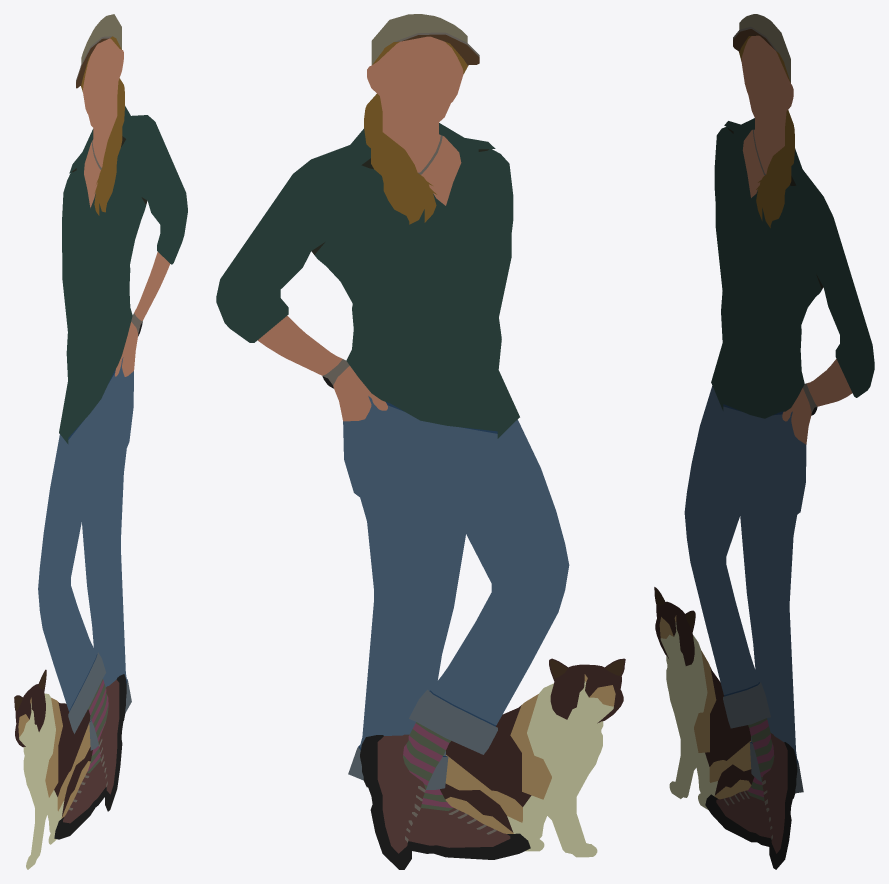
The picture shows the model from 3 angles, left to right: view 1: azimuth 30°, elevation 25°; view 2: azimuth 150°, elevation 25°; view 3: azimuth 270°, elevation 25°; orthographic projection. The views are drawn at different scales.
Visible parts, largest first — view 1: Mesh1 Heather1 Model; view 2: Mesh1 Heather1 Model; view 3: Mesh1 Heather1 Model.
Boxes of the visible parts, x1,y1,x2,y2 form: Mesh1 Heather1 Model: (14, 14, 187, 869); Mesh1 Heather1 Model: (216, 14, 625, 869); Mesh1 Heather1 Model: (654, 14, 874, 869).
Size of the model in its own units: 23.65 by 64.88 by 15.33.
